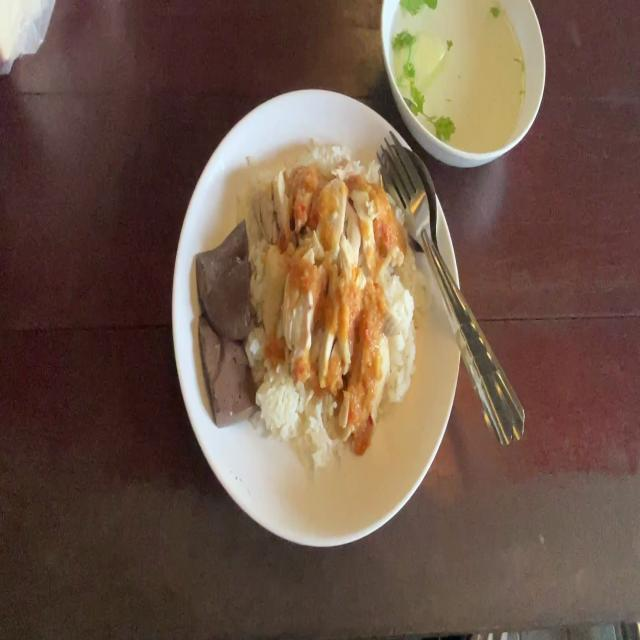boiled_chicken: (267, 177, 389, 397)
boiled_chicken_blood_jelly: (188, 223, 254, 334), (197, 309, 254, 426)
chicken_rice: (194, 140, 422, 482)
